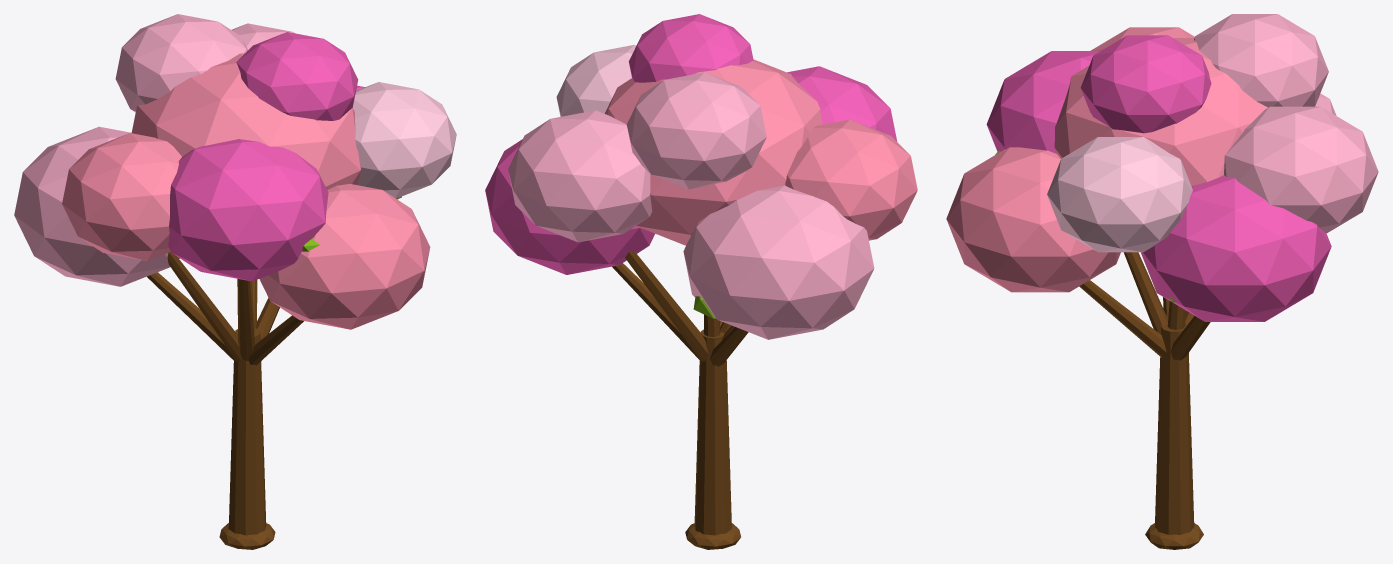
File: hm_cherry_tree.glb
3 renders of one model, left to right at view 1: azimuth 30°, elevation 25°; view 2: azimuth 150°, elevation 25°; view 3: azimuth 270°, elevation 25°, orthographic. The views are drawn at different scales.
Parts seen in each view (by area): view 1: Icosphere.005, Icosphere.004, Icosphere.001, Icosphere.007, Icosphere.008, Icosphere.003, Icosphere.010, Icosphere.009, Cone, Cone.006, Cone.002, Cone.004 (+4 smaller); view 2: Icosphere.003, Icosphere.006, Icosphere.009, Icosphere.001, Icosphere.007, Icosphere.002, Cone, Icosphere.010, Icosphere.005, Icosphere.008, Cone.005, Cone.001 (+2 smaller); view 3: Icosphere.002, Icosphere.004, Icosphere.006, Icosphere.008, Icosphere.010, Icosphere.001, Icosphere.009, Cone, Icosphere.005, Cone.003, Cone.004, Icosphere (+2 smaller).
Part boxes in pixels (bbox=[...]): Icosphere.005: bbox=[168, 139, 328, 281]; Icosphere.004: bbox=[259, 184, 430, 329]; Icosphere.001: bbox=[131, 53, 361, 189]; Icosphere.007: bbox=[62, 133, 181, 260]; Icosphere.008: bbox=[352, 82, 456, 198]; Icosphere.003: bbox=[14, 126, 179, 286]; Icosphere.010: bbox=[236, 32, 358, 120]; Icosphere.009: bbox=[115, 14, 247, 112]; Cone: bbox=[228, 328, 266, 535]; Cone.006: bbox=[167, 252, 242, 361]; Cone.002: bbox=[147, 272, 235, 361]; Cone.004: bbox=[237, 279, 254, 360]; Icosphere.003: bbox=[683, 185, 874, 339]; Icosphere.006: bbox=[508, 110, 652, 242]; Icosphere.009: bbox=[626, 72, 766, 189]; Icosphere.001: bbox=[605, 59, 822, 245]; Icosphere.007: bbox=[785, 119, 917, 240]; Icosphere.002: bbox=[485, 139, 654, 274]; Cone: bbox=[694, 329, 731, 535]; Icosphere.010: bbox=[628, 14, 753, 82]; Icosphere.005: bbox=[787, 66, 897, 141]; Icosphere.008: bbox=[556, 44, 636, 116]; Cone.005: bbox=[625, 251, 708, 361]; Cone.001: bbox=[612, 263, 700, 360]; Icosphere.002: bbox=[1141, 175, 1331, 321]; Icosphere.004: bbox=[946, 147, 1120, 292]; Icosphere.006: bbox=[1224, 106, 1378, 233]; Icosphere.008: bbox=[1047, 137, 1192, 252]; Icosphere.010: bbox=[1080, 35, 1211, 133]; Icosphere.001: bbox=[1054, 38, 1267, 186]; Icosphere.009: bbox=[1194, 14, 1328, 107]; Cone: bbox=[1155, 323, 1194, 534]; Icosphere.005: bbox=[986, 51, 1100, 153]; Cone.003: bbox=[1079, 280, 1166, 357]; Cone.004: bbox=[1124, 252, 1168, 334]; Icosphere: bbox=[1145, 523, 1203, 549].
Bounding box in the file's own units: 326 × 424 × 322.
